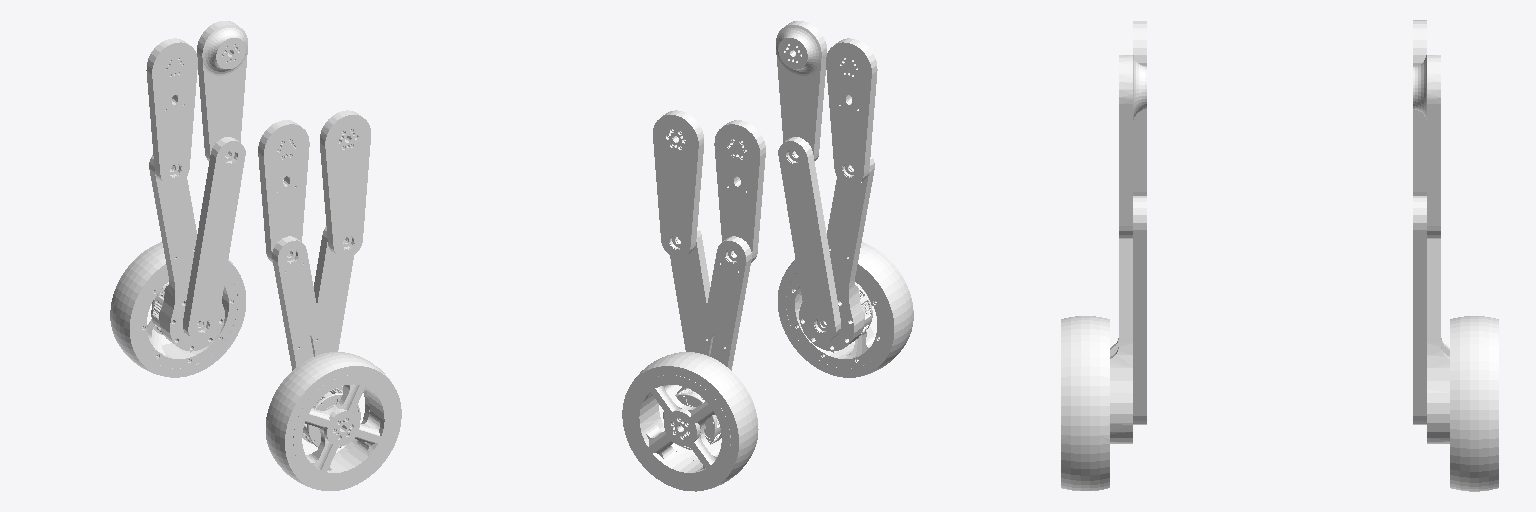
The robot description file, URDF, robot "wheel_robot_withlidar":
<?xml version="1.0" encoding="utf-8"?>
<!-- Regenerated from slash.xml (MuJoCo MJCF): link/joint parameters and
     inertials come from the MJCF; base_footprint is ROS-specific. -->
<robot name="wheel_robot_withlidar">
  <!-- ====================== base_footprint ====================== -->
  <link name="base_footprint">
    <inertial>
      <origin xyz="0 0 0" rpy="0 0 -1.5707963267949"/>
      <mass value="0.0001" />
      <inertia ixx="0.0001" ixy="0.0" ixz="0.0" iyy="0.0001" iyz="0.0" izz="0.0001"/>
    </inertial>
  </link>

  <joint name="base_footprint_joint" type="fixed">
    <origin xyz="0 0 0.35" rpy="0 0 -1.5707963267949"/>
    <parent link="base_footprint"/>
    <child link="base_link"/>
    <axis xyz="0 0 0"/>
  </joint>
  <link name="base_link">
    <inertial>
      <origin xyz="0 0 0.15" rpy="0 0 0" />
      <mass value="4.80555" />
      <inertia ixx="0.0270021" ixy="0" ixz="0" iyy="0.0254651" iyz="0" izz="0.0207886" />
    </inertial>
    <visual>
      <origin xyz="0 0 0" rpy="0 0 0" />
      <geometry>
        <mesh filename="package://wheel_robot_withlidar/meshes/base_link.STL" />
      </geometry>
      <material name="">
        <color rgba="0.752941176470588 0.752941176470588 0.752941176470588 1" />
      </material>
    </visual>
    <collision>
      <origin xyz="0 0 0" rpy="0 0 0" />
      <geometry>
        <mesh filename="package://wheel_robot_withlidar/meshes/base_link.STL" />
      </geometry>
    </collision>
  </link>
  <link name="lf_link1">
    <inertial>
      <origin xyz="0.0515145 -8.07809e-10 -0.0204019" rpy="0 0 0" />
      <mass value="0.192042" />
      <inertia ixx="6.15845838381e-05" ixy="0" ixz="2.07538480508e-05" iyy="0.000593442" iyz="0" izz="0.000638459316162" />
    </inertial>
    <visual>
      <origin xyz="0 0 0" rpy="0 0 0" />
      <geometry>
        <mesh filename="package://wheel_robot_withlidar/meshes/lf_link1.STL" />
      </geometry>
      <material name="">
        <color rgba="1 1 1 1" />
      </material>
    </visual>
    <collision>
      <origin xyz="0 0 0" rpy="0 0 0" />
      <geometry>
        <mesh filename="package://wheel_robot_withlidar/meshes/lf_link1.STL" />
      </geometry>
    </collision>
  </link>
  <joint name="lf_joint1" type="revolute">
    <origin xyz="-0.1395 0.0436361 0.06" rpy="0 1.57079630572 0" />
    <parent link="base_link" />
    <child link="lf_link1" />
    <axis xyz="0 0 1" />
    <limit lower="0" upper="1.54" effort="100" velocity="5" />
    <dynamics damping="0.02" friction="0.0" />
  </joint>
  <link name="lf_link2">
    <inertial>
      <origin xyz="-0.12 0 0.0075" rpy="0 0 0" />
      <mass value="0.177913" />
      <inertia ixx="3.34802e-05" ixy="0" ixz="2.5044637475e-19" iyy="0.00106756" iyz="0" izz="0.00109443" />
    </inertial>
    <visual>
      <origin xyz="0 0 0" rpy="0 0 0" />
      <geometry>
        <mesh filename="package://wheel_robot_withlidar/meshes/lf_link2.STL" />
      </geometry>
      <material name="">
        <color rgba="1 1 1 1" />
      </material>
    </visual>
    <collision>
      <origin xyz="0 0 0" rpy="0 0 0" />
      <geometry>
        <mesh filename="package://wheel_robot_withlidar/meshes/lf_link2.STL" />
      </geometry>
    </collision>
  </link>
  <joint name="lf_joint2" type="revolute">
    <origin xyz="0.15 0 0" rpy="3.14159265359 0 2.96357044647" />
    <parent link="lf_link1" />
    <child link="lf_link2" />
    <axis xyz="0 0 1" />
    <limit lower="-3.14" upper="3.14" effort="100" velocity="5" />
    <dynamics damping="0.02" friction="0.0" />
  </joint>
  <link name="lb_link1">
    <inertial>
      <origin xyz="0.0601741 0 -0.00749392" rpy="0 0 0" />
      <mass value="0.162669" />
      <inertia ixx="5.07121072786e-05" ixy="0" ixz="5.984559187e-08" iyy="0.000498125" iyz="0" izz="0.000542772992721" />
    </inertial>
    <visual>
      <origin xyz="0 0 0" rpy="0 0 0" />
      <geometry>
        <mesh filename="package://wheel_robot_withlidar/meshes/lb_link1.STL" />
      </geometry>
      <material name="">
        <color rgba="1 1 1 1" />
      </material>
    </visual>
    <collision>
      <origin xyz="0 0 0" rpy="0 0 0" />
      <geometry>
        <mesh filename="package://wheel_robot_withlidar/meshes/lb_link1.STL" />
      </geometry>
    </collision>
  </link>
  <joint name="lb_joint1" type="revolute">
    <origin xyz="-0.1395 -0.0413639 0.06" rpy="0 1.57079630572 0" />
    <parent link="base_link" />
    <child link="lb_link1" />
    <axis xyz="0 0 -1" />
    <limit lower="0" upper="1.54" effort="100" velocity="5" />
    <dynamics damping="0.02" friction="0.0" />
  </joint>
  <link name="lb_link2">
    <inertial>
      <origin xyz="-0.183607 7.48841e-05 0.0189316" rpy="0 0 0" />
      <mass value="0.365755" />
      <inertia ixx="0.000145046869392" ixy="-1.48295475499e-08" ixz="3.74981023334e-05" iyy="0.00200627006089" iyz="8.37112528413e-08" izz="0.00211956806972" />
    </inertial>
    <visual>
      <origin xyz="0 0 0" rpy="0 0 0" />
      <geometry>
        <mesh filename="package://wheel_robot_withlidar/meshes/lb_link2.STL" />
      </geometry>
      <material name="">
        <color rgba="1 1 1 1" />
      </material>
    </visual>
    <collision>
      <origin xyz="0 0 0" rpy="0 0 0" />
      <geometry>
        <mesh filename="package://wheel_robot_withlidar/meshes/lb_link2.STL" />
      </geometry>
    </collision>
  </link>
  <joint name="lb_joint2" type="revolute">
    <origin xyz="0.15 0 -0.015" rpy="3.14159265359 0 -2.96357044647" />
    <parent link="lb_link1" />
    <child link="lb_link2" />
    <axis xyz="0 0 -1" />
    <limit lower="-3.14" upper="3.14" effort="100" velocity="5" />
    <dynamics damping="0.02" friction="0.0" />
  </joint>
  <link name="l_wheel_link">
    <inertial>
      <origin xyz="0.0272291 -7.60454e-08 -2.23596e-07" rpy="0 0 0" />
      <mass value="0.813353" />
      <inertia ixx="0.00452269" ixy="0" ixz="0" iyy="0.0023881189296" iyz="4.58532274688e-08" izz="0.0023882110704" />
    </inertial>
    <visual>
      <origin xyz="0 0 0" rpy="0 0 0" />
      <geometry>
        <mesh filename="package://wheel_robot_withlidar/meshes/l_wheel_link.STL" />
      </geometry>
      <material name="">
        <color rgba="1 1 1 1" />
      </material>
    </visual>
    <collision>
      <origin xyz="0 0 0" rpy="0 0 0" />
      <geometry>
        <mesh filename="package://wheel_robot_withlidar/meshes/l_wheel_link.STL" />
      </geometry>
    </collision>
  </link>
  <joint name="l_wheel_joint" type="continuous">
    <origin xyz="-0.24 0 0.02455" rpy="2.48976976789 -1.57079631189 0" />
    <parent link="lb_link2" />
    <child link="l_wheel_link" />
    <axis xyz="-1 0 0" />
    <dynamics damping="0.02" friction="0.0" />
  </joint>
  <link name="rf_link1">
    <inertial>
      <origin xyz="0.0515145 -8.07818e-10 -0.0204019" rpy="0 0 0" />
      <mass value="0.192042" />
      <inertia ixx="6.15845838381e-05" ixy="0" ixz="2.07538480508e-05" iyy="0.000593442" iyz="0" izz="0.000638459316162" />
    </inertial>
    <visual>
      <origin xyz="0 0 0" rpy="0 0 0" />
      <geometry>
        <mesh filename="package://wheel_robot_withlidar/meshes/rf_link1.STL" />
      </geometry>
      <material name="">
        <color rgba="1 1 1 1" />
      </material>
    </visual>
    <collision>
      <origin xyz="0 0 0" rpy="0 0 0" />
      <geometry>
        <mesh filename="package://wheel_robot_withlidar/meshes/rf_link1.STL" />
      </geometry>
    </collision>
  </link>
  <joint name="rf_joint1" type="revolute">
    <origin xyz="0.1395 0.0436361 0.06" rpy="3.14159265359 1.57079630572 0" />
    <parent link="base_link" />
    <child link="rf_link1" />
    <axis xyz="0 0 -1" />
    <limit lower="0" upper="1.54" effort="100" velocity="5" />
    <dynamics damping="0.02" friction="0.0" />
  </joint>
  <link name="rf_link2">
    <inertial>
      <origin xyz="0.12 0 -0.0075" rpy="0 0 0" />
      <mass value="0.177913" />
      <inertia ixx="3.34802e-05" ixy="0" ixz="2.5044637475e-19" iyy="0.00106756" iyz="0" izz="0.00109443" />
    </inertial>
    <visual>
      <origin xyz="0 0 0" rpy="0 0 0" />
      <geometry>
        <mesh filename="package://wheel_robot_withlidar/meshes/rf_link2.STL" />
      </geometry>
      <material name="">
        <color rgba="1 1 1 1" />
      </material>
    </visual>
    <collision>
      <origin xyz="0 0 0" rpy="0 0 0" />
      <geometry>
        <mesh filename="package://wheel_robot_withlidar/meshes/rf_link2.STL" />
      </geometry>
    </collision>
  </link>
  <joint name="rf_joint2" type="revolute">
    <origin xyz="0.15 0 0" rpy="0 0 0.178022207117" />
    <parent link="rf_link1" />
    <child link="rf_link2" />
    <axis xyz="0 0 -1" />
    <limit lower="-3.14" upper="3.14" effort="100" velocity="5" />
    <dynamics damping="0.02" friction="0.0" />
  </joint>
  <link name="rb_link1">
    <inertial>
      <origin xyz="0.0601741 0 -0.00749392" rpy="0 0 0" />
      <mass value="0.162669" />
      <inertia ixx="5.07121072786e-05" ixy="0" ixz="5.984559187e-08" iyy="0.000498125" iyz="0" izz="0.000542772992721" />
    </inertial>
    <visual>
      <origin xyz="0 0 0" rpy="0 0 0" />
      <geometry>
        <mesh filename="package://wheel_robot_withlidar/meshes/rb_link1.STL" />
      </geometry>
      <material name="">
        <color rgba="1 1 1 1" />
      </material>
    </visual>
    <collision>
      <origin xyz="0 0 0" rpy="0 0 0" />
      <geometry>
        <mesh filename="package://wheel_robot_withlidar/meshes/rb_link1.STL" />
      </geometry>
    </collision>
  </link>
  <joint name="rb_joint1" type="revolute">
    <origin xyz="0.1395 -0.0413639 0.06" rpy="3.14159265359 1.57079630572 0" />
    <parent link="base_link" />
    <child link="rb_link1" />
    <axis xyz="0 0 1" />
    <limit lower="0" upper="1.54" effort="100" velocity="5" />
    <dynamics damping="0.02" friction="0.0" />
  </joint>
  <link name="rb_link2">
    <inertial>
      <origin xyz="-0.183607 7.48838e-05 0.0189316" rpy="0 0 0" />
      <mass value="0.365755" />
      <inertia ixx="0.000145046869392" ixy="-1.48287622452e-08" ixz="3.74981023334e-05" iyy="0.00200627006089" iyz="8.37157531028e-08" izz="0.00211956806972" />
    </inertial>
    <visual>
      <origin xyz="0 0 0" rpy="0 0 0" />
      <geometry>
        <mesh filename="package://wheel_robot_withlidar/meshes/rb_link2.STL" />
      </geometry>
      <material name="">
        <color rgba="1 1 1 1" />
      </material>
    </visual>
    <collision>
      <origin xyz="0 0 0" rpy="0 0 0" />
      <geometry>
        <mesh filename="package://wheel_robot_withlidar/meshes/rb_link2.STL" />
      </geometry>
    </collision>
  </link>
  <joint name="rb_joint2" type="revolute">
    <origin xyz="0.15 0 -0.015" rpy="3.14159265359 0 2.96357044647" />
    <parent link="rb_link1" />
    <child link="rb_link2" />
    <axis xyz="0 0 1" />
    <limit lower="-3.14" upper="3.14" effort="100" velocity="5" />
    <dynamics damping="0.02" friction="0.0" />
  </joint>
  <link name="r_wheel_lilnk">
    <inertial>
      <origin xyz="0.0272291 1.61372e-07 -1.72445e-07" rpy="0 0 0" />
      <mass value="0.813353" />
      <inertia ixx="0.00452269" ixy="0" ixz="0" iyy="0.00238815248844" iyz="-6.37844876253e-08" izz="0.00238817751156" />
    </inertial>
    <visual>
      <origin xyz="0 0 0" rpy="0 0 0" />
      <geometry>
        <mesh filename="package://wheel_robot_withlidar/meshes/r_wheel_link.STL" />
      </geometry>
      <material name="">
        <color rgba="1 1 1 1" />
      </material>
    </visual>
    <collision>
      <origin xyz="0 0 0" rpy="0 0 0" />
      <geometry>
        <mesh filename="package://wheel_robot_withlidar/meshes/r_wheel_link.STL" />
      </geometry>
    </collision>
  </link>
  <joint name="r_wheel_joint" type="continuous">
    <origin xyz="-0.24 0 0.02455" rpy="1.39519479784 -1.57079630572 0" />
    <parent link="rb_link2" />
    <child link="r_wheel_lilnk" />
    <axis xyz="1 0 0" />
    <dynamics damping="0.02" friction="0.0" />
  </joint>
  <link name="lidar_link">
    <inertial>
      <origin xyz="0.000833804 -0.000785559 0.0431386" rpy="0 0 0" />
      <mass value="0.21408" />
      <inertia ixx="6.696096096e-05" ixy="-1.34406698801e-06" ixz="-1.82176508899e-07" iyy="6.85509030096e-05" iyz="-1.06370206068e-07" izz="0.00011236003603" />
    </inertial>
    <visual>
      <origin xyz="0 0 0" rpy="0 0 0" />
      <geometry>
        <mesh filename="package://wheel_robot_withlidar/meshes/lidar_link.STL" />
      </geometry>
      <material name="">
        <color rgba="1 1 1 1" />
      </material>
    </visual>
    <collision>
      <origin xyz="0 0 0" rpy="0 0 0" />
      <geometry>
        <mesh filename="package://wheel_robot_withlidar/meshes/lidar_link.STL" />
      </geometry>
    </collision>
  </link>
  <joint name="lidar_joint_fix" type="fixed">
    <origin xyz="0 0.065 0.24" rpy="0 0 -2.09439469861" />
    <parent link="base_link" />
    <child link="lidar_link" />
    <axis xyz="0 0 0" />
  </joint>
</robot>

--- Facts derived from the render (not from the file) ---
3 views of the same robot in one strip: view 1: azimuth 30°, elevation 25°; view 2: azimuth 150°, elevation 25°; view 3: azimuth 270°, elevation 25° (orthographic).
Robot: wheel_robot_withlidar — 13 links, 12 joints (8 revolute, 2 continuous, 2 fixed); root link base_footprint; default pose: every joint at zero.
Links seen in each view (by area): view 1: r_wheel_lilnk, l_wheel_link, lf_link2, rf_link1, lb_link1, lb_link2, rb_link1, lf_link1, rb_link2, rf_link2; view 2: l_wheel_link, r_wheel_lilnk, rf_link2, rb_link1, lf_link1, rb_link2, lb_link1, rf_link1, lb_link2, lf_link2; view 3: l_wheel_link, r_wheel_lilnk, lb_link2, rb_link2, rf_link1, lf_link1, lf_link2, rf_link2, lb_link1, rb_link1.
Boxes of the visible links, box(x1,y1,x2,y2) form: r_wheel_lilnk: box(266, 352, 401, 490); l_wheel_link: box(110, 242, 245, 377); lf_link2: box(183, 137, 245, 341); rf_link1: box(320, 110, 370, 257); lb_link1: box(146, 38, 197, 185); lb_link2: box(149, 155, 224, 351); rb_link1: box(258, 120, 309, 262); lf_link1: box(197, 21, 247, 160); rb_link2: box(272, 236, 360, 447); rf_link2: box(314, 226, 353, 352); l_wheel_link: box(622, 352, 758, 491); r_wheel_lilnk: box(778, 242, 913, 377); rf_link2: box(778, 137, 840, 341); rb_link1: box(826, 38, 877, 185); lf_link1: box(653, 110, 703, 257); rb_link2: box(799, 155, 874, 351); lb_link1: box(714, 120, 765, 262); rf_link1: box(776, 21, 826, 160); lb_link2: box(663, 236, 751, 449); lf_link2: box(670, 227, 709, 352); l_wheel_link: box(1450, 316, 1498, 491); r_wheel_lilnk: box(1061, 316, 1109, 490); lb_link2: box(1427, 239, 1449, 443); rb_link2: box(1110, 239, 1132, 443); rf_link1: box(1119, 55, 1146, 238); lf_link1: box(1413, 55, 1440, 238); lf_link2: box(1413, 196, 1426, 424); rf_link2: box(1133, 196, 1146, 424); lb_link1: box(1413, 20, 1426, 195); rb_link1: box(1133, 21, 1146, 195).
Bounding box of the posed robot: 0.1847 × 0.4606 × 0.5136 m (x, y, z).
Meshes: 12 distinct files referenced, 10 mesh visuals loaded (10 binary STL); not drawn: 2 (reference not matched to a file when rendering).
